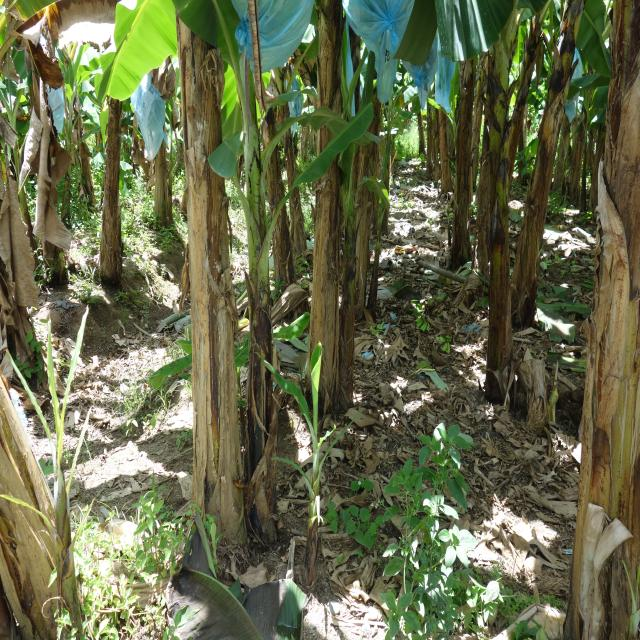Banana-plant: (564, 0, 640, 640), (172, 9, 240, 562), (229, 77, 287, 532), (516, 0, 590, 332), (308, 0, 360, 415), (482, 0, 520, 401), (443, 21, 478, 263), (100, 46, 130, 278)
